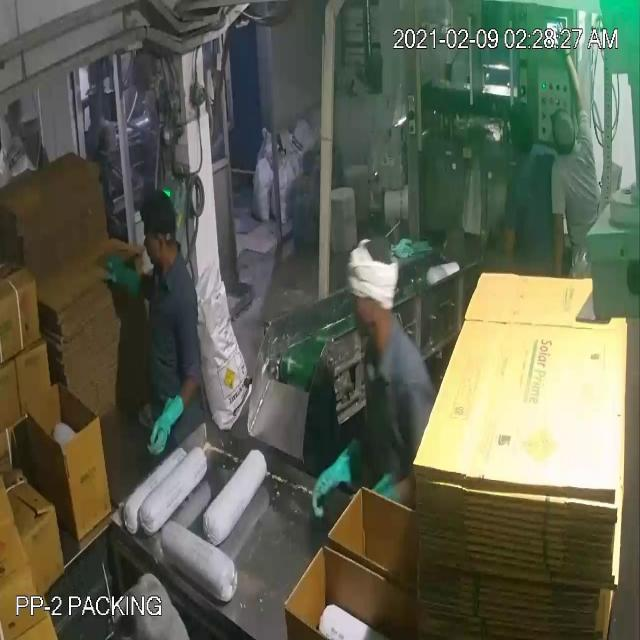Gloves: (24, 65, 572, 480)
